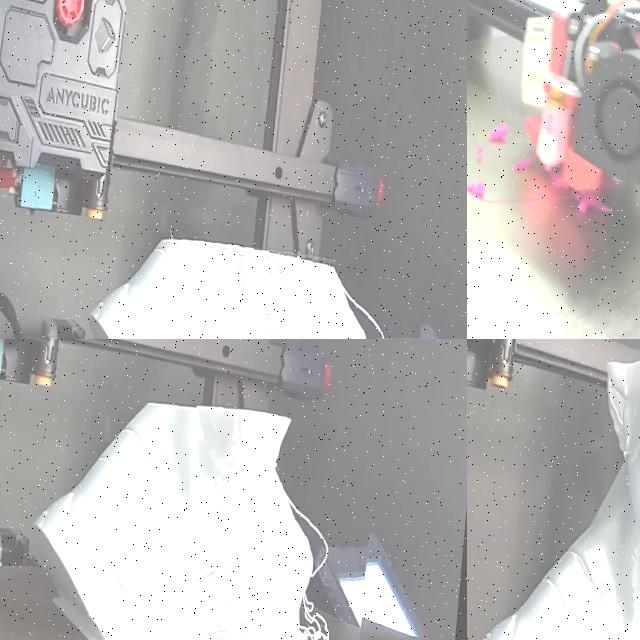spaghetti: (152, 447, 374, 640), (210, 239, 426, 339), (467, 181, 540, 203), (571, 189, 611, 213), (549, 171, 571, 190), (489, 123, 507, 141), (514, 158, 530, 171), (477, 148, 483, 159)
